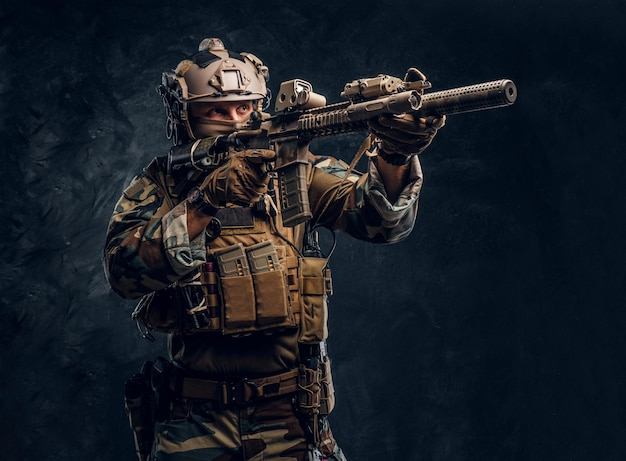gun: (166, 67, 519, 227)
